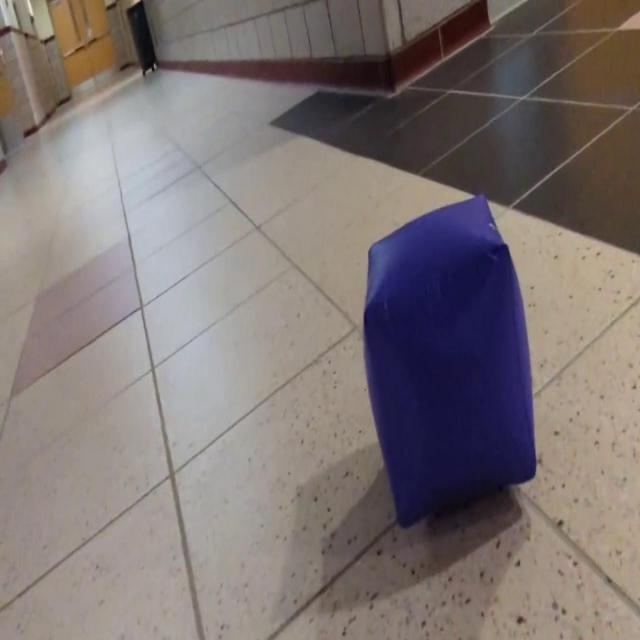frc_cube: (362, 199, 542, 525)
